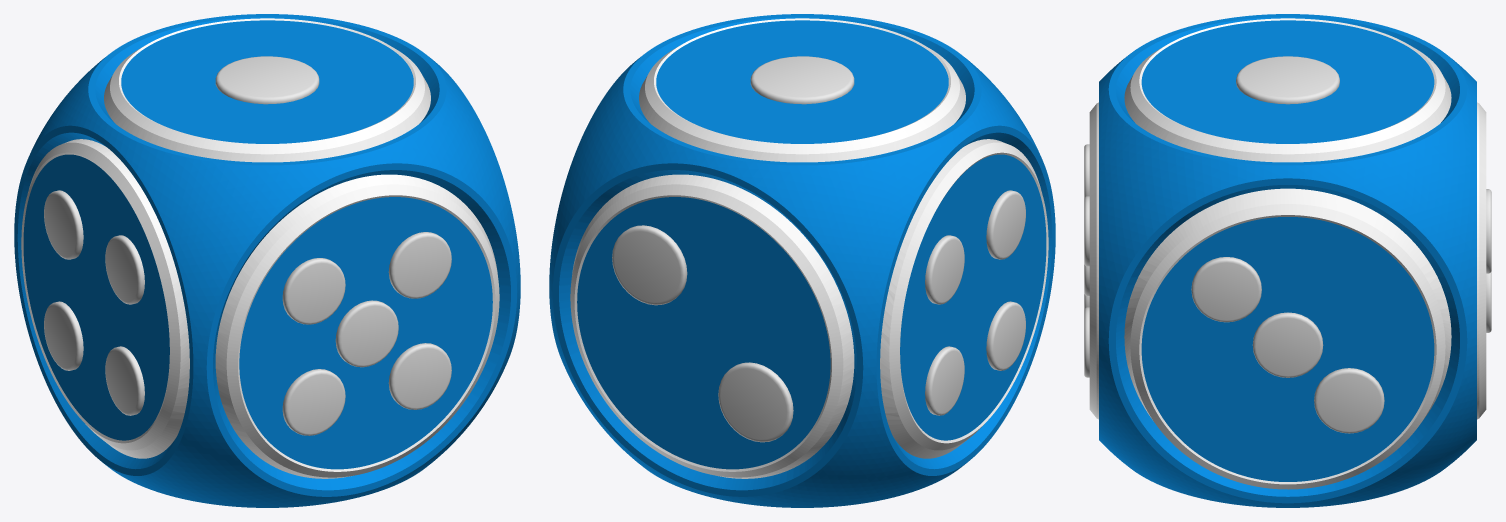
Rendered from dice.fbx.
The picture shows the model from 3 angles, left to right: view 1: azimuth 30°, elevation 25°; view 2: azimuth 150°, elevation 25°; view 3: azimuth 270°, elevation 25°; orthographic projection.
Visible parts, largest first — view 1: Icosphere, Circle; view 2: Icosphere, Circle; view 3: Icosphere, Circle.
Part boxes in pixels (x1,y1,x2,y2): Icosphere: (14, 14, 520, 507); Circle: (44, 56, 451, 435); Icosphere: (549, 14, 1055, 507); Circle: (612, 56, 1025, 442); Icosphere: (1089, 14, 1486, 507); Circle: (1084, 56, 1491, 433).
Bounding box in the file's own units: 156 × 156 × 156.
